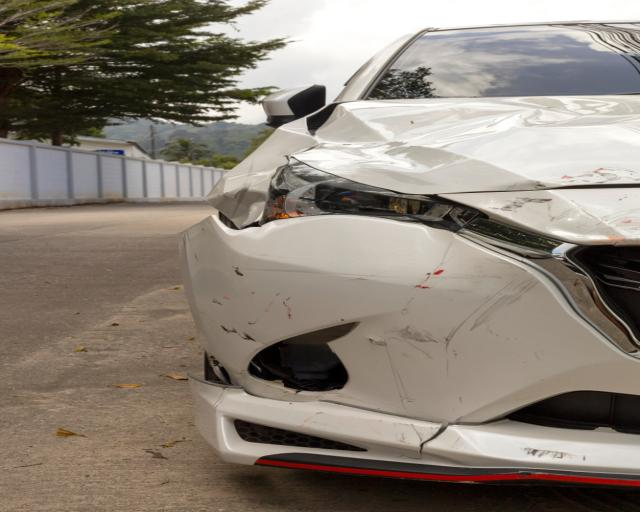crack: (393, 424, 450, 460)
dent: (294, 95, 640, 193), (204, 124, 319, 225), (473, 190, 640, 243)
scratch: (191, 254, 543, 355), (502, 166, 640, 191)
